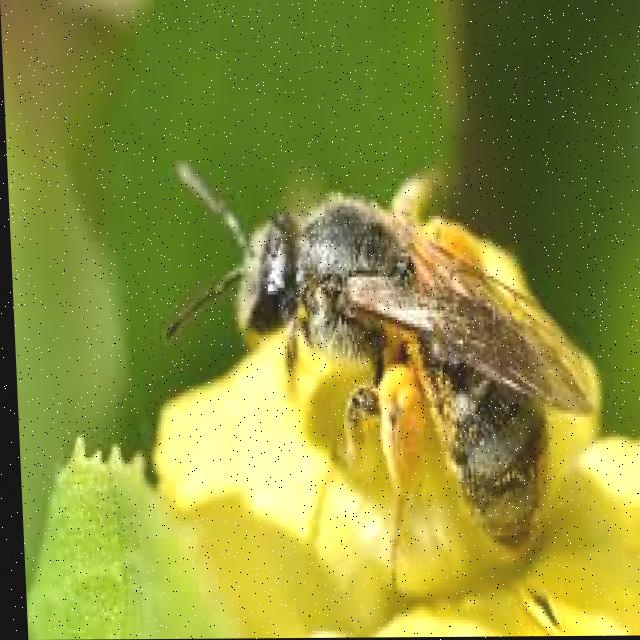Lasioglossum: (153, 135, 608, 581)
